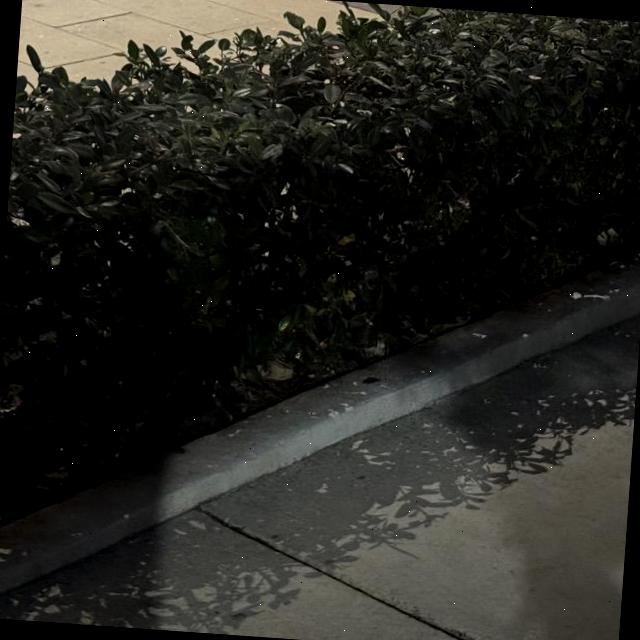curb: (0, 262, 640, 592)
